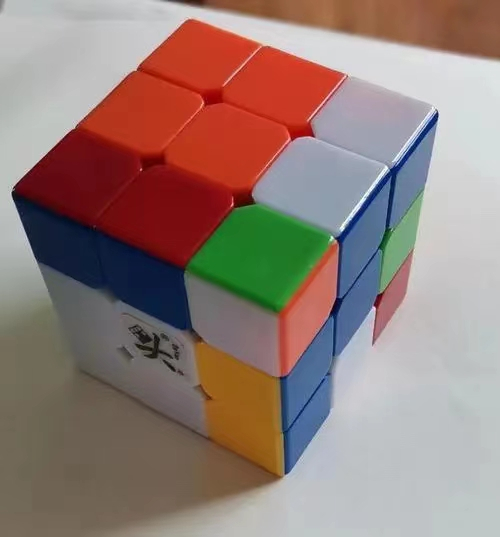cube: (11, 15, 443, 478)
